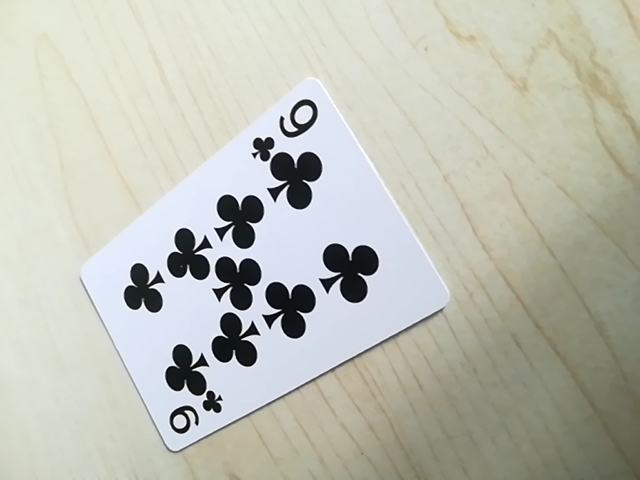mh 9: (254, 92, 327, 162), (156, 388, 224, 448)
